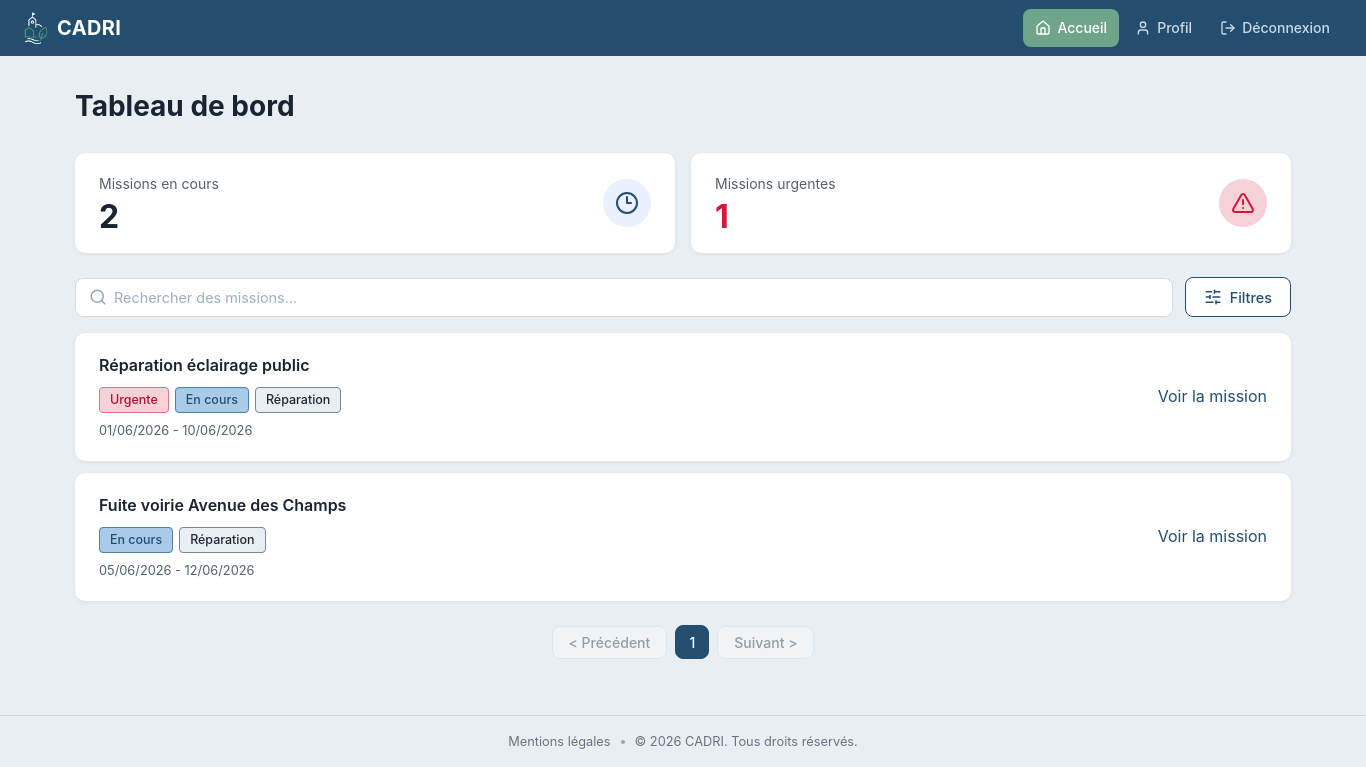
Test: DashboardPage — filtres › le filtre de statut "Terminée" n'affiche que les missions terminées
Expected: the text "Réparation éclairage public" is shown, left=99, top=355, right=310, bottom=375
What coordinates should you click on to do the following:
click the button "Filtres"
I would click on:
 (1238, 297)
Its box is left=1185, top=277, right=1291, bottom=317.
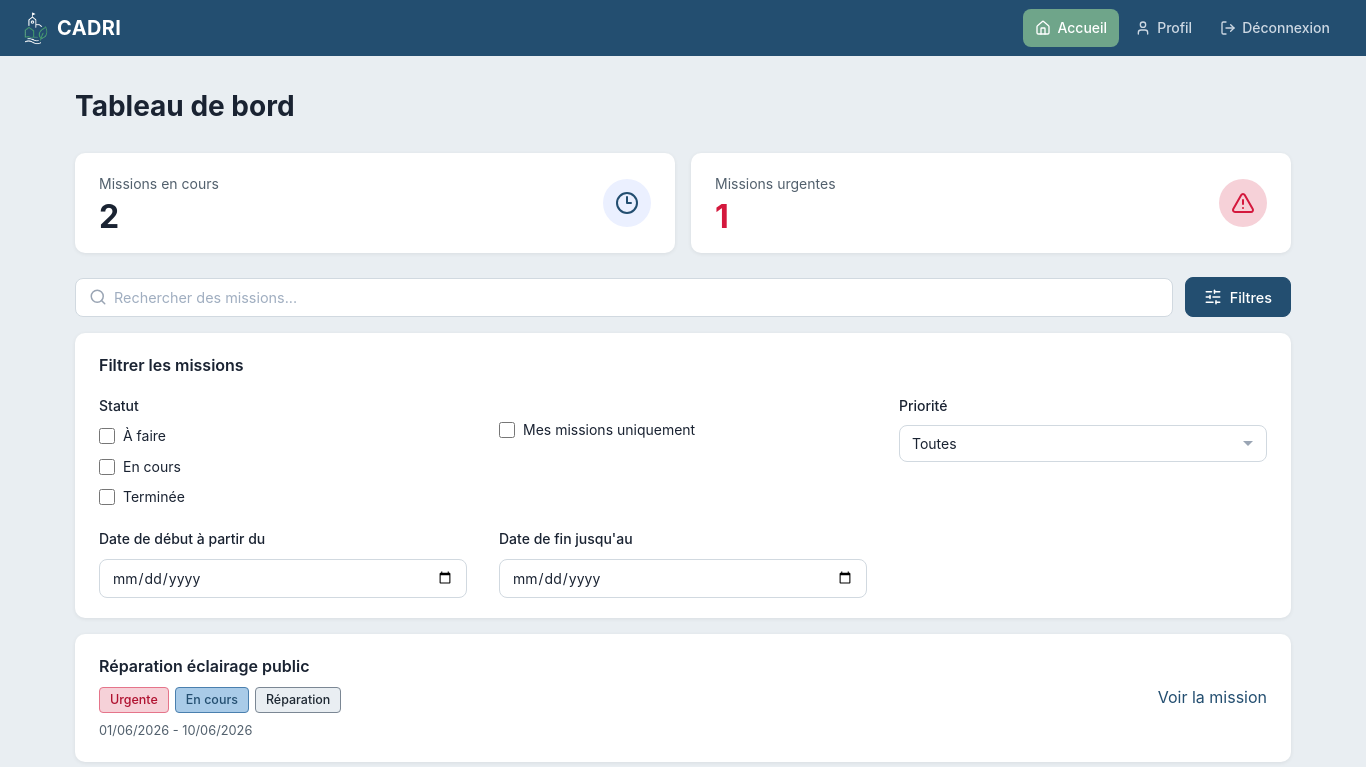
What coordinates should you click on to do the following:
click the checkbox labelled "Terminée"
I would click on:
 (107, 497)
Its box is left=99, top=489, right=115, bottom=505.
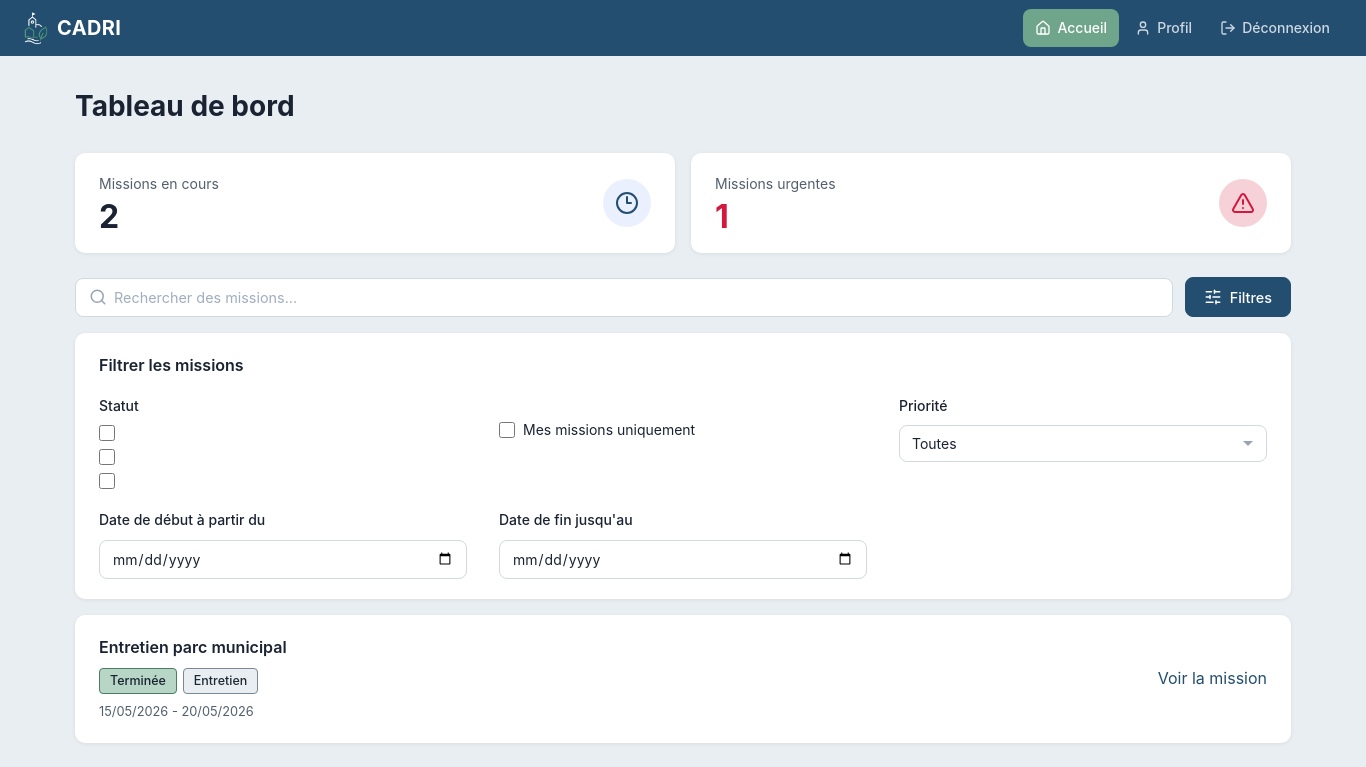
Expected: the text "Entretien parc municipal" is shown, left=99, top=637, right=287, bottom=657
Expected: the text "Réparation éclairage public" is gone
